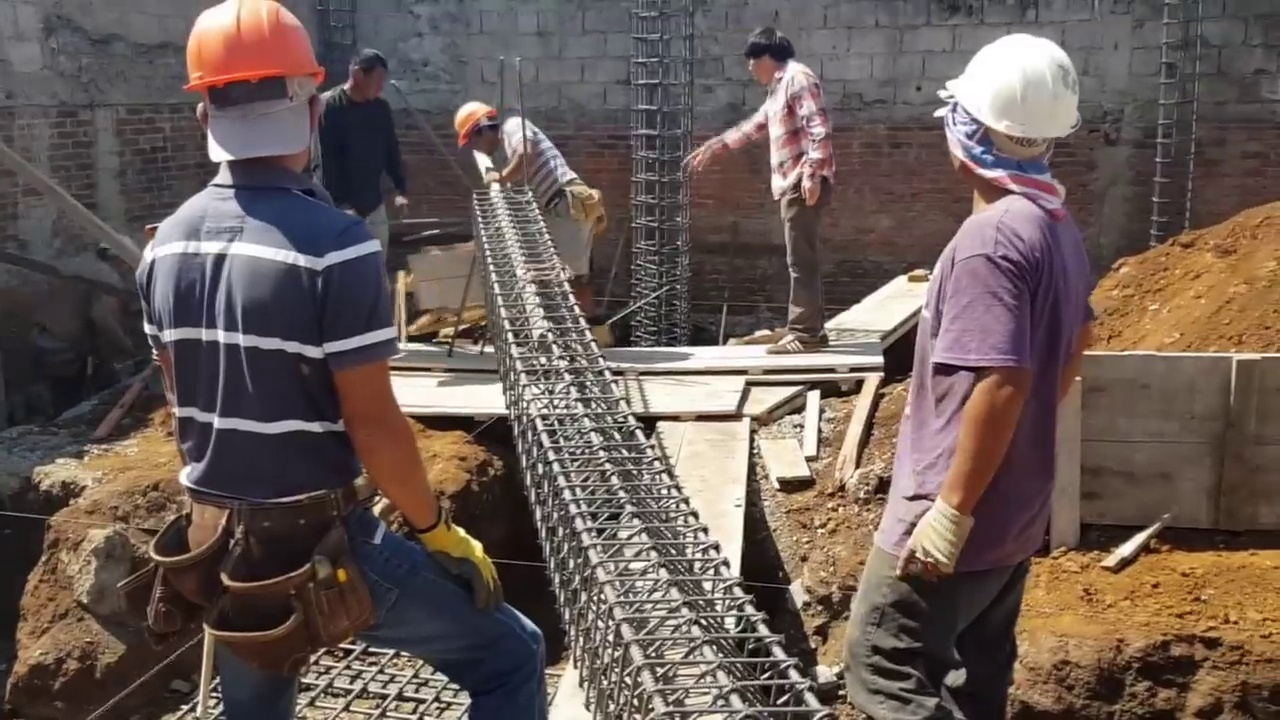helmet: (956, 31, 1085, 147), (179, 0, 327, 99), (456, 100, 496, 140)
helmet-off: (745, 24, 797, 84), (343, 50, 388, 96)
helmet-on: (173, 0, 327, 202), (939, 10, 1075, 222), (455, 101, 511, 162)
person: (130, 0, 523, 720), (856, 7, 1086, 720), (700, 38, 832, 368), (454, 104, 605, 332), (322, 45, 404, 277)
